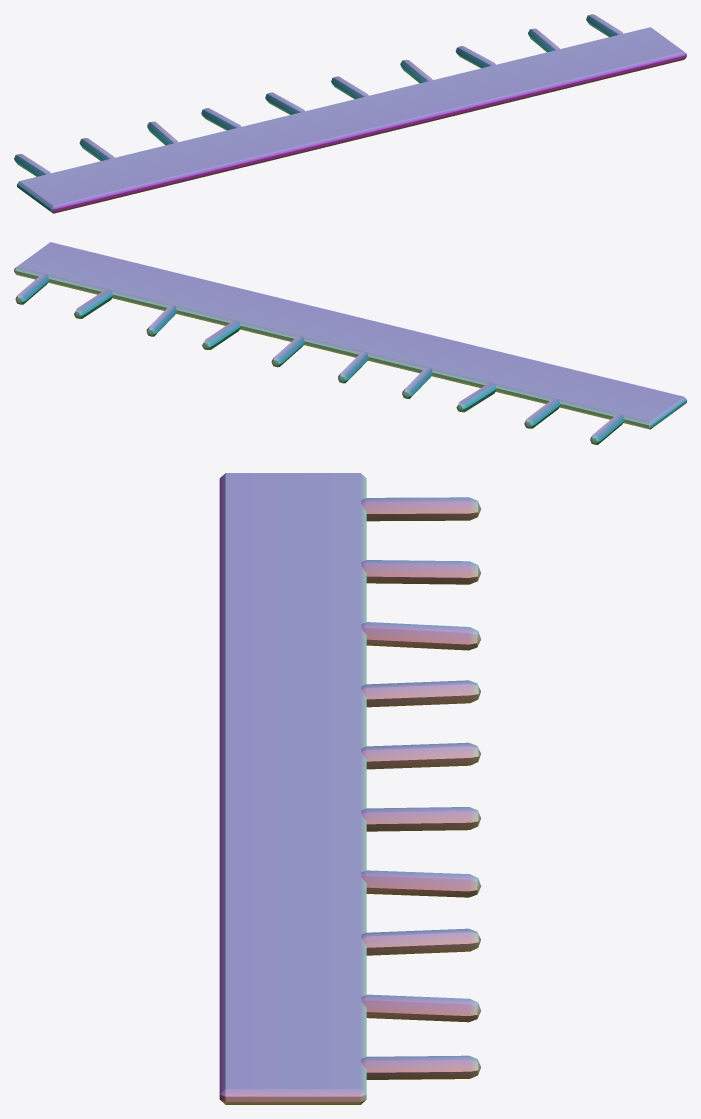
The model's file is env_rug_edge.glb.
3 views of the same model, one above another, from view 1: azimuth 30°, elevation 25°; view 2: azimuth 150°, elevation 25°; view 3: azimuth 270°, elevation 25° (orthographic). The views are drawn at different scales.
Visible parts, largest first — view 1: env_rug_edge_mesh; view 2: env_rug_edge_mesh; view 3: env_rug_edge_mesh.
Part boxes in pixels (<box>): env_rug_edge_mesh: <box>14,14,686,213</box>; env_rug_edge_mesh: <box>14,242,686,444</box>; env_rug_edge_mesh: <box>219,473,481,1104</box>.
Bounding box in the file's own units: 1 × 0.0157 × 0.178.
